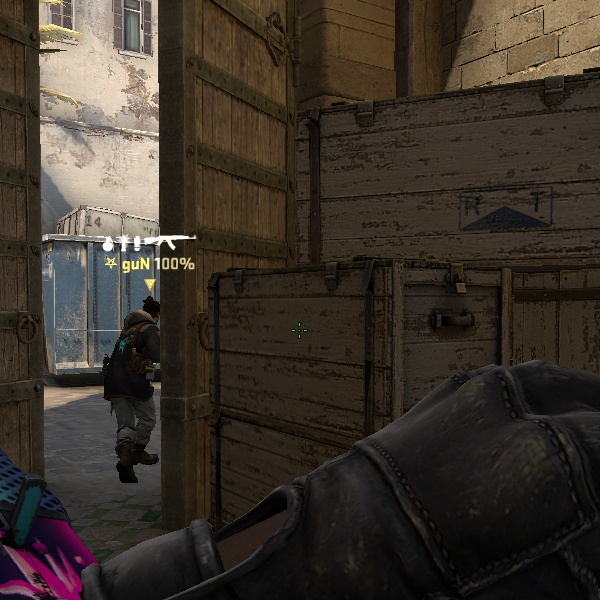t_body: (91, 301, 174, 484)
